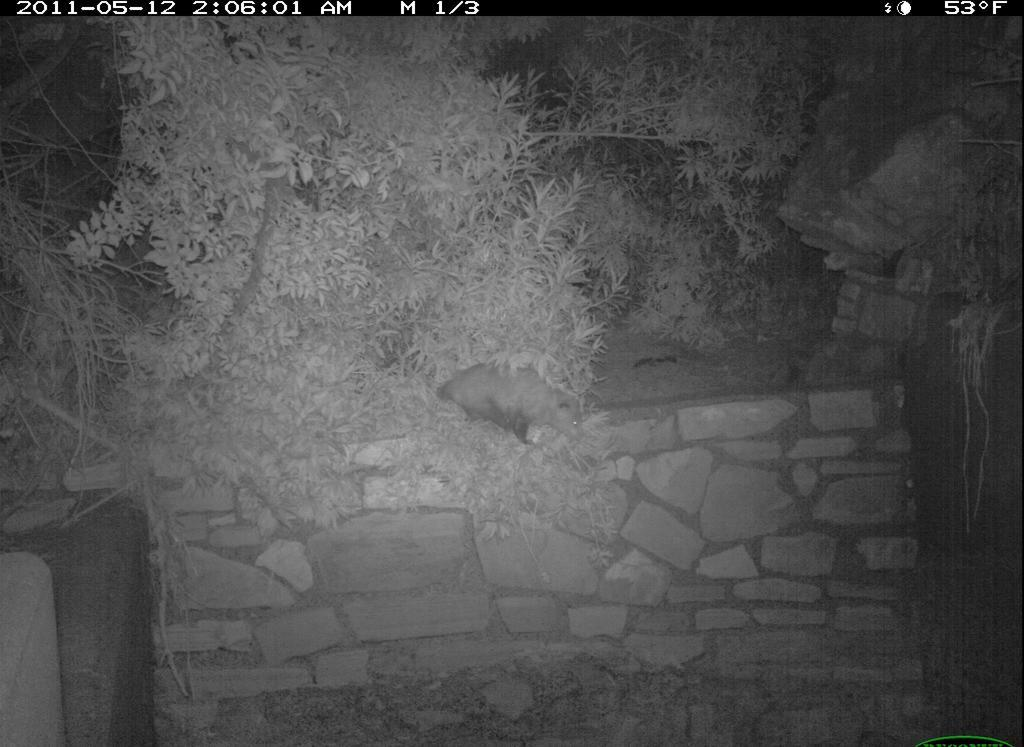opossum: (438, 359, 591, 454)
